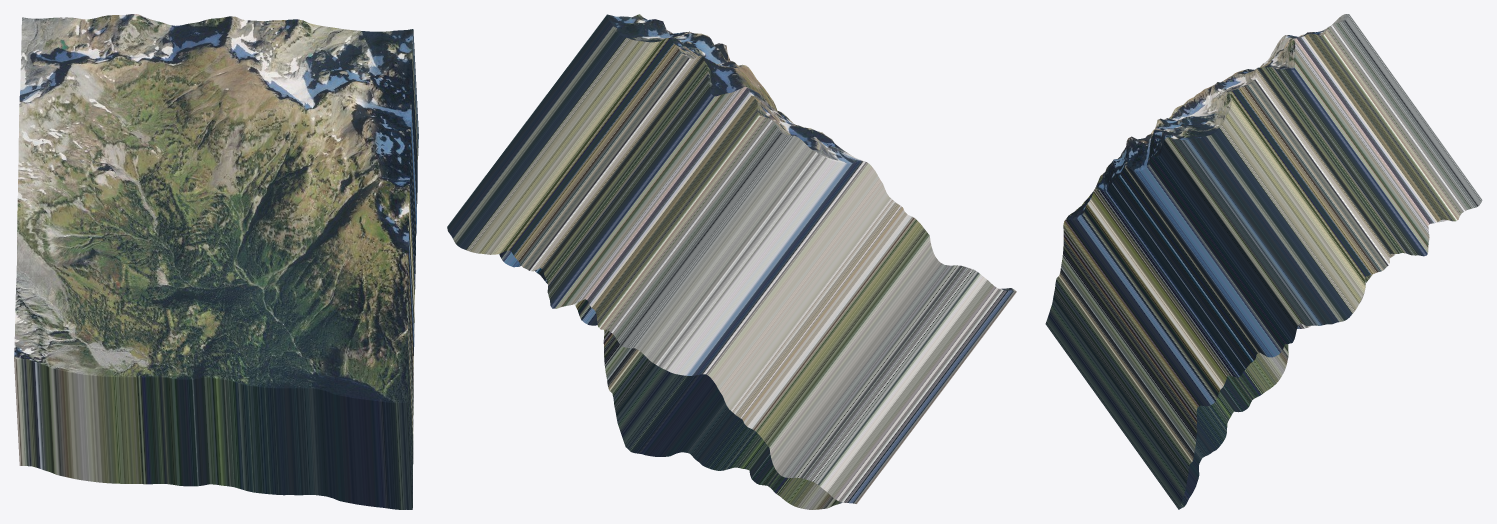
The picture shows the model from 3 angles, left to right: view 1: azimuth 30°, elevation 25°; view 2: azimuth 150°, elevation 25°; view 3: azimuth 270°, elevation 25°; orthographic projection. The views are drawn at different scales.
Bounding box in the file's own units: 6152 × 5677 × 5729.
Materials: 1 (1 with a texture image).
